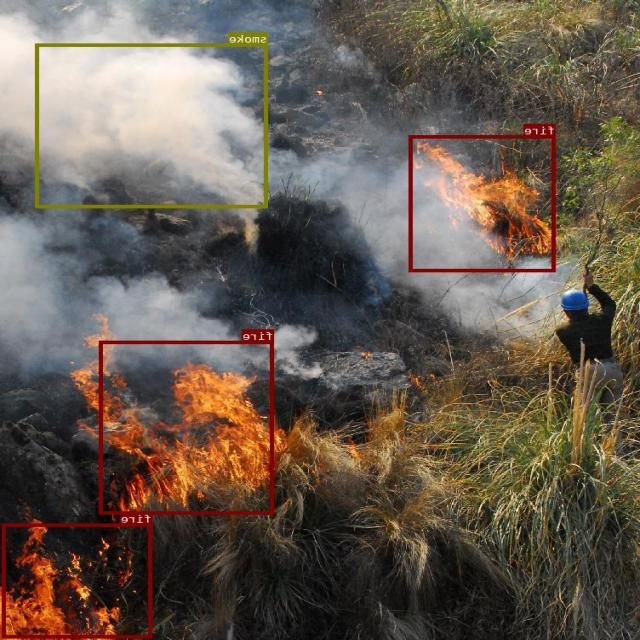fire: (100, 340, 275, 514), (410, 135, 556, 271), (3, 523, 152, 637)
smoke: (36, 43, 269, 207)
